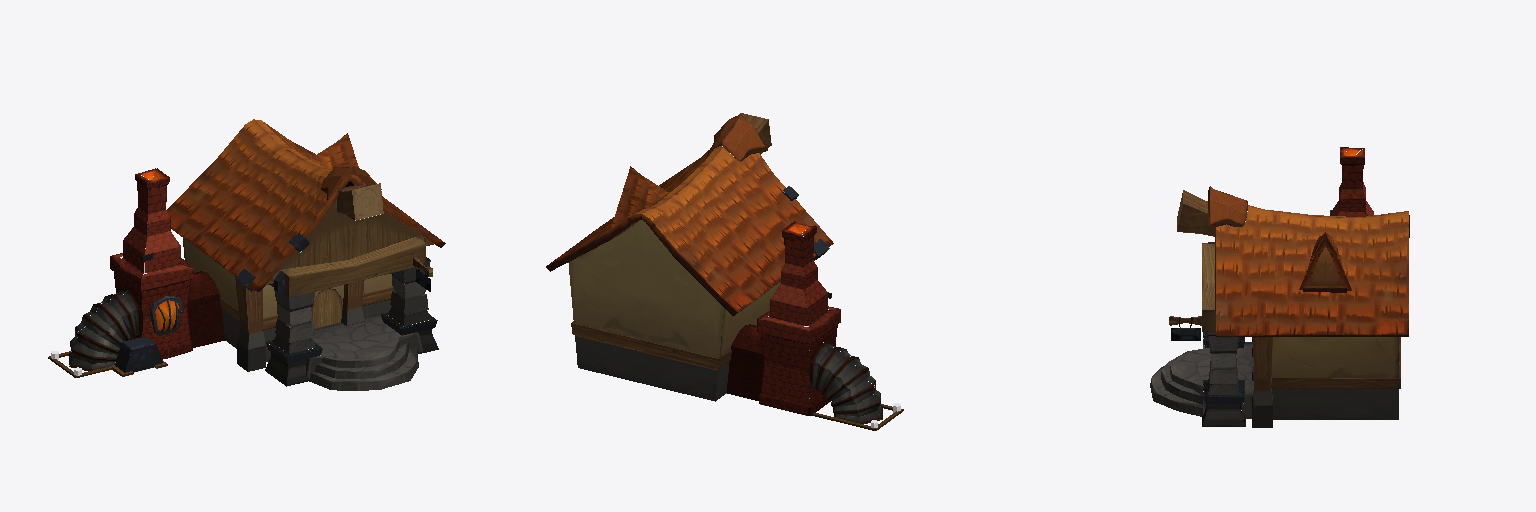
3 renders of one model, left to right at view 1: azimuth 30°, elevation 25°; view 2: azimuth 150°, elevation 25°; view 3: azimuth 270°, elevation 25°, orthographic.
Visible parts, largest first — view 1: Object001, Box02; view 2: Object001, Box02; view 3: Object001, Box02.
Boxes of the visible parts, box(x1,y1,x2,y2) form: Object001: box(167, 119, 445, 390); Box02: box(48, 166, 438, 386); Object001: box(546, 146, 833, 401); Box02: box(707, 113, 903, 430); Object001: box(1150, 205, 1409, 427); Box02: box(1171, 147, 1373, 426).
Size of the model in its own units: 2092 by 1276 by 1489.
2 materials, 2 textured.